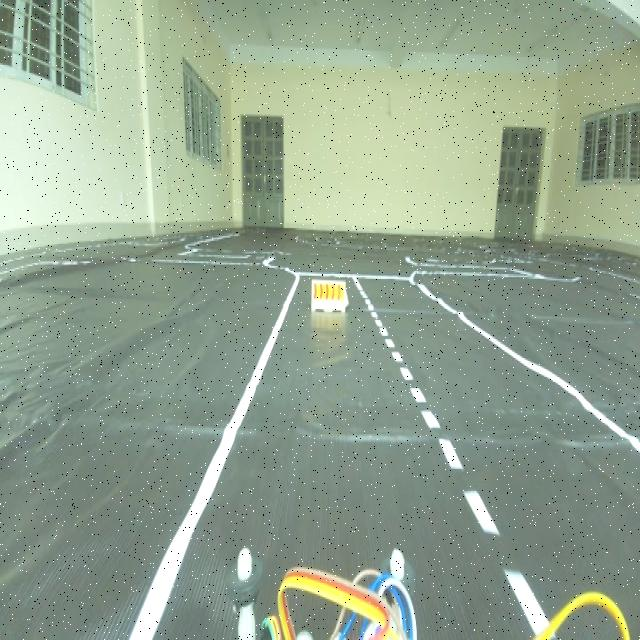roadblock: (308, 274, 350, 317)
